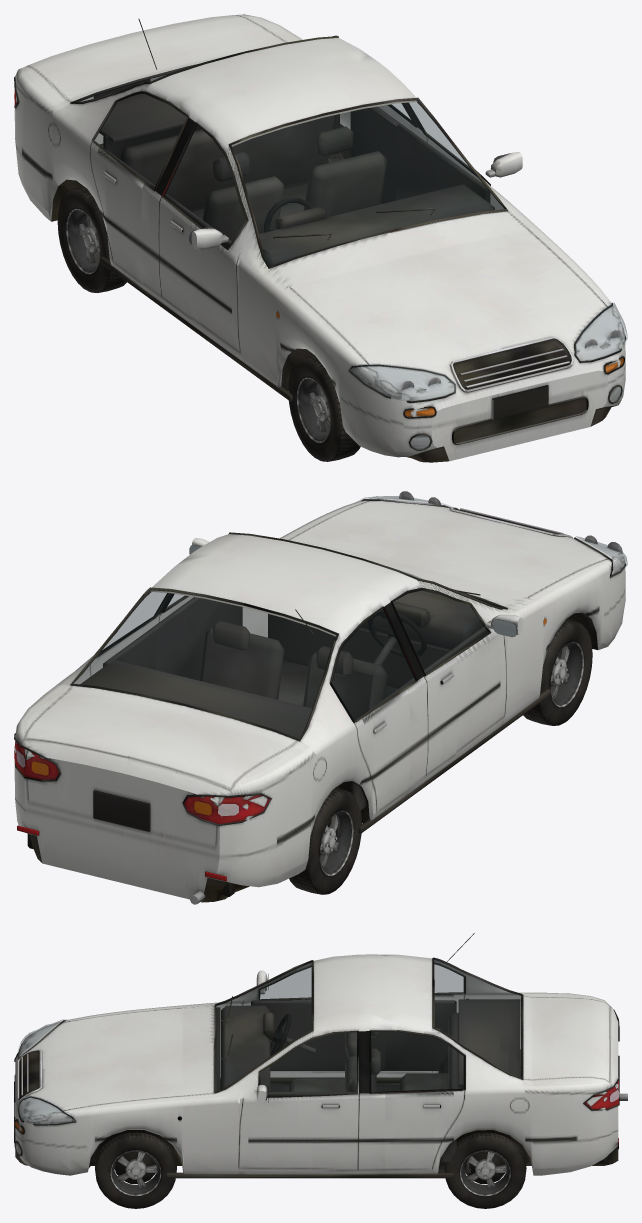
The model's file is car_sedan.glb.
3 renders of one model, top to bottom at view 1: azimuth 30°, elevation 25°; view 2: azimuth 150°, elevation 25°; view 3: azimuth 270°, elevation 25°, orthographic. The views are drawn at different scales.
Visible parts, largest first — view 1: body, glass, door_D, door_D_glass, door_PL, wheel_FR, wheel_RR, door_PL_glass; view 2: body, glass, door_D, door_PL, wheel_RR, wheel_FR, door_D_glass; view 3: body, glass, door_PL, wheel_FL, wheel_RL, door_PL_glass, door_D, door_D_glass.
Boxes of the visible parts, x1,y1,x2,y2 form: body: (14,14,626,462); glass: (77,67,627,450); door_D: (141,146,284,354); door_D_glass: (146,139,317,247); door_PL: (349,102,504,210); wheel_FR: (288,355,360,461); wheel_RR: (57,186,126,292); door_PL_glass: (399,103,483,190); body: (14,491,626,904); glass: (74,496,627,738); door_D: (343,589,505,789); door_PL: (142,593,242,681); wheel_RR: (289,788,361,894); wheel_FR: (523,619,592,725); door_D_glass: (387,596,488,685); body: (14,933,627,1178); glass: (14,959,521,1155); door_PL: (240,1052,385,1169); wheel_FL: (95,1132,176,1208); wheel_RL: (444,1132,526,1208); door_PL_glass: (240,1038,384,1095); door_D: (240,976,385,1072); door_D_glass: (240,975,310,1008).
Size of the model in its own units: 2.09 by 1.62 by 4.48.
2 materials, 1 textured.
